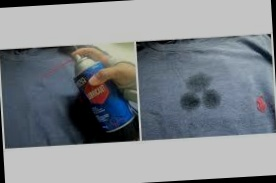oil: (171, 71, 223, 115)
